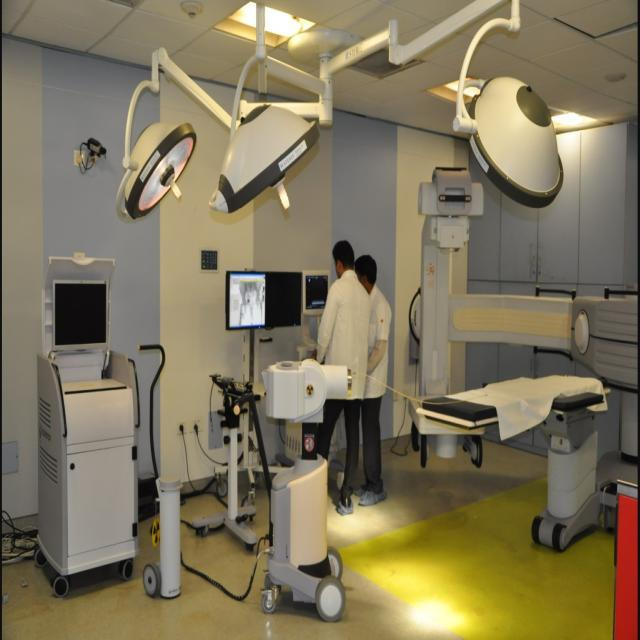Monitor: (43, 259, 137, 400), (217, 251, 300, 339), (297, 263, 332, 322)
bed: (396, 354, 624, 544)
